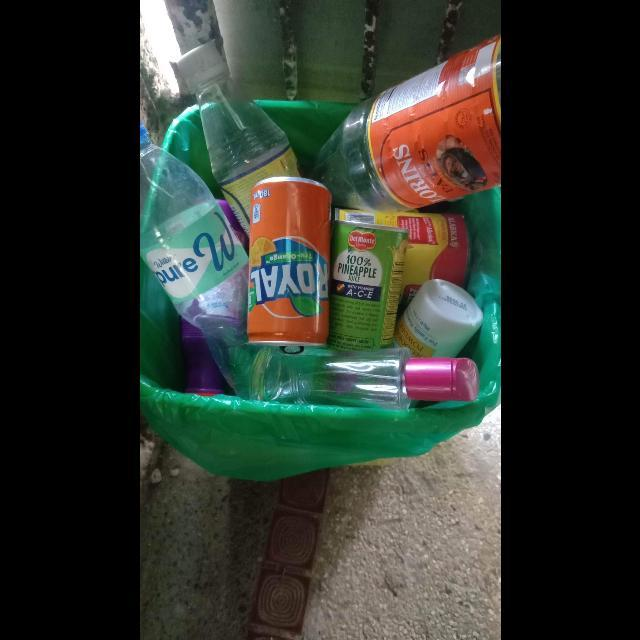metal: (246, 176, 331, 349), (333, 207, 468, 307), (328, 221, 408, 352)
plastic: (311, 34, 501, 213), (139, 122, 260, 400), (177, 39, 299, 238), (252, 346, 479, 411), (393, 279, 483, 358)
